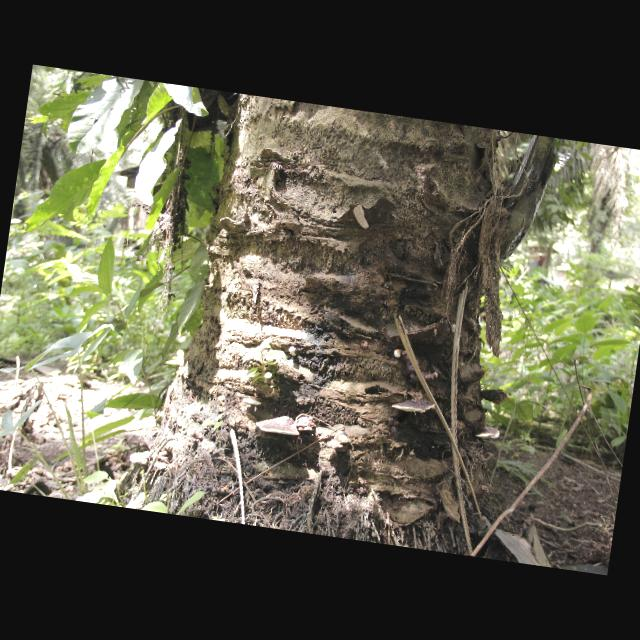ganoderma: (400, 351, 438, 388), (256, 414, 303, 439), (391, 397, 437, 418), (296, 416, 319, 435), (130, 450, 154, 468), (476, 427, 502, 443), (243, 397, 264, 409), (154, 460, 170, 474)
primordium: (290, 347, 300, 358), (188, 431, 199, 441), (394, 350, 403, 360), (451, 324, 457, 335), (434, 373, 440, 380)
